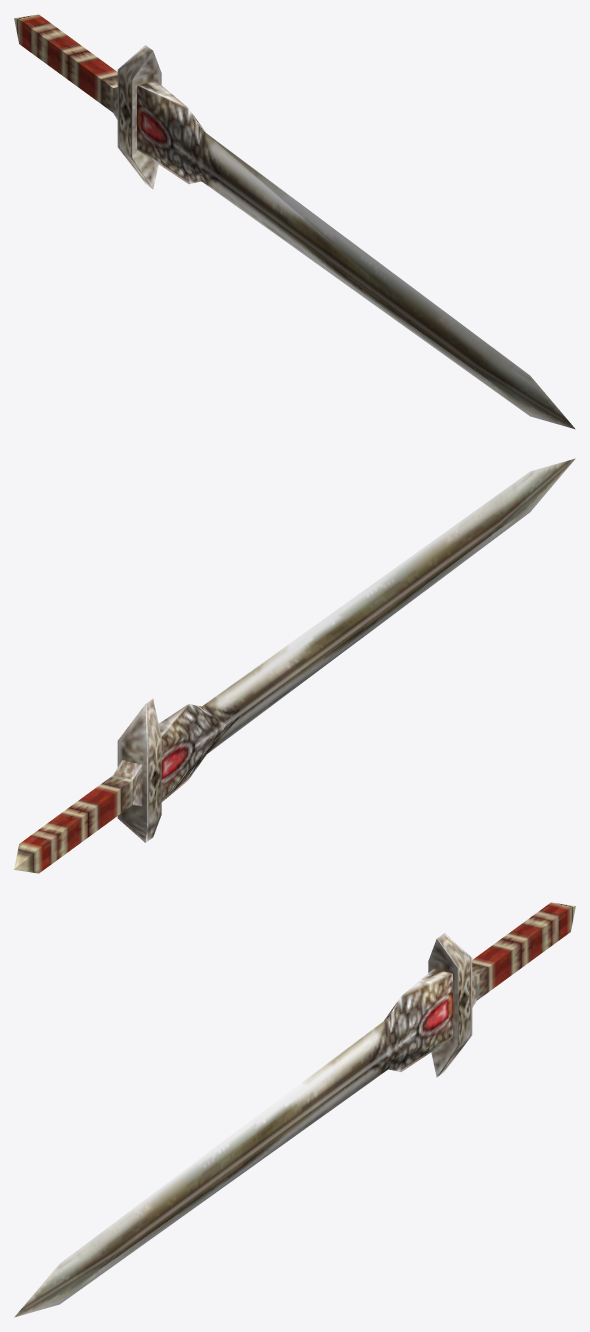
3 renders of one model, top to bottom at view 1: azimuth 30°, elevation 25°; view 2: azimuth 150°, elevation 25°; view 3: azimuth 330°, elevation 25°, orthographic.
Visible parts, largest first — view 1: ws2; view 2: ws2; view 3: ws2.
Part boxes in pixels (x1,y1,x2,y2): ws2: [14, 14, 575, 429]; ws2: [14, 458, 575, 873]; ws2: [14, 902, 575, 1317].
Size of the model in its own units: 0.0368 by 0.1659 by 1.22.
1 material, 1 textured.
